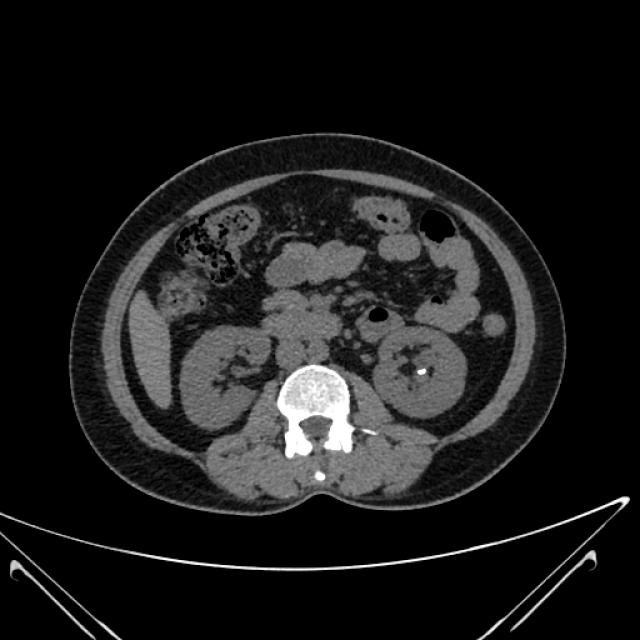kidney: (178, 328, 274, 430), (368, 324, 467, 422)
stone: (414, 362, 428, 377)
